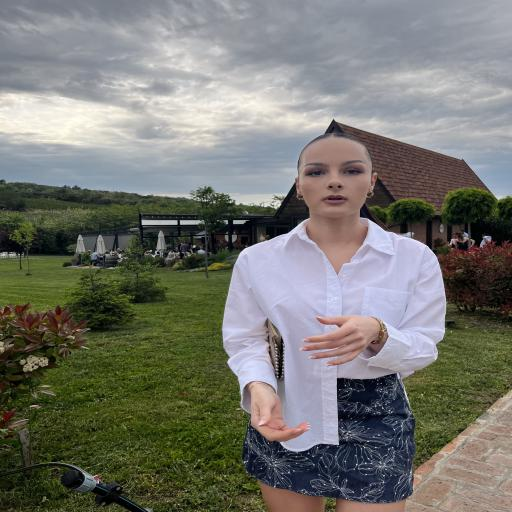marija: (293, 137, 381, 219)
